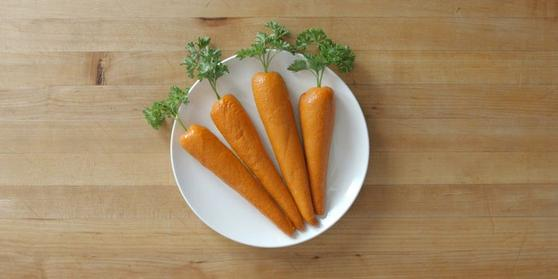carrot: (244, 39, 319, 229)
